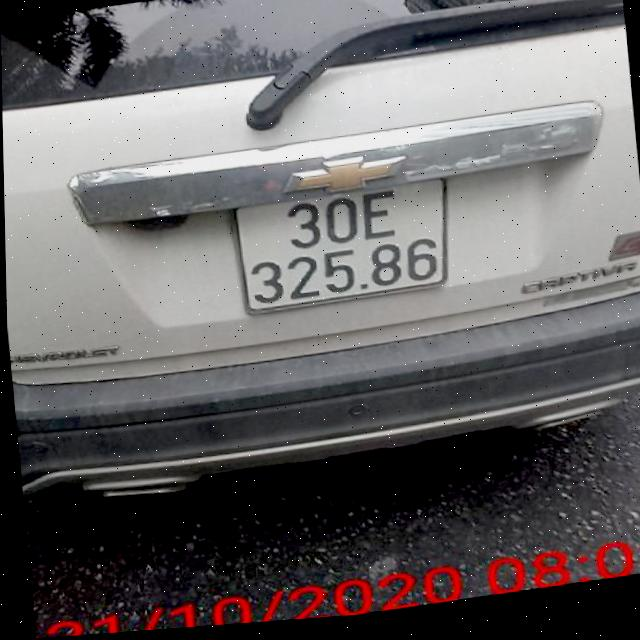plate: (228, 163, 470, 320)
